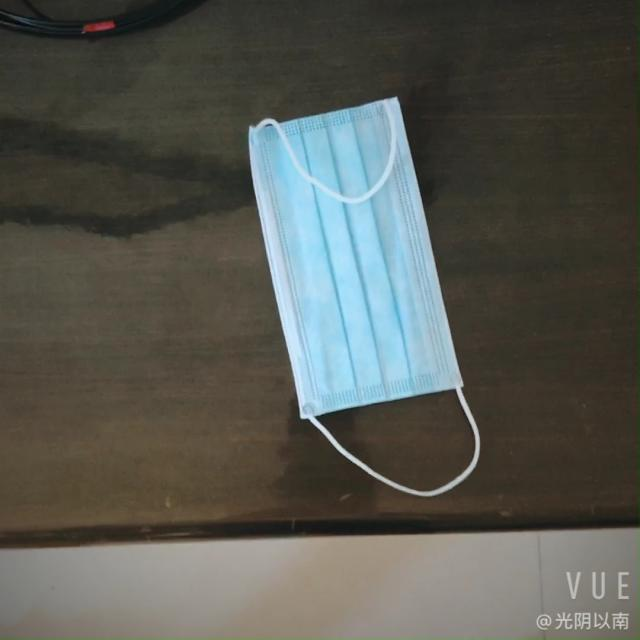non-organic waste: (246, 81, 458, 435)
